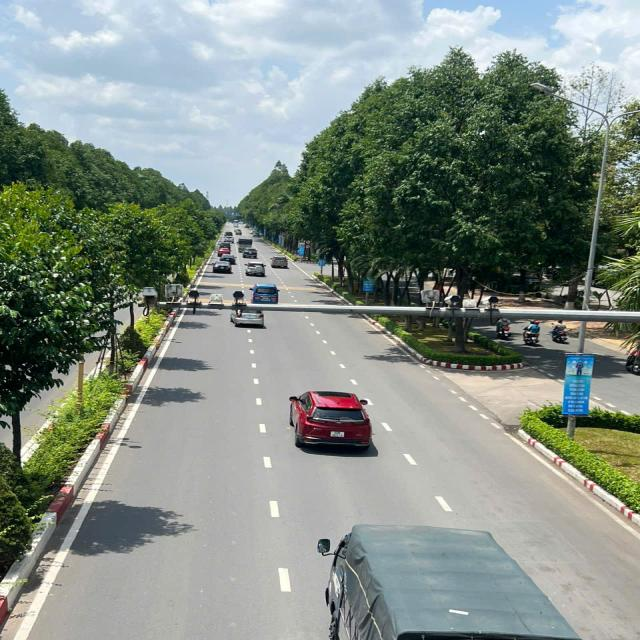ben: (318, 520, 589, 640)
car: (287, 387, 386, 459), (226, 304, 268, 329), (246, 280, 281, 309), (210, 256, 234, 277), (244, 258, 268, 278), (270, 252, 289, 272)
